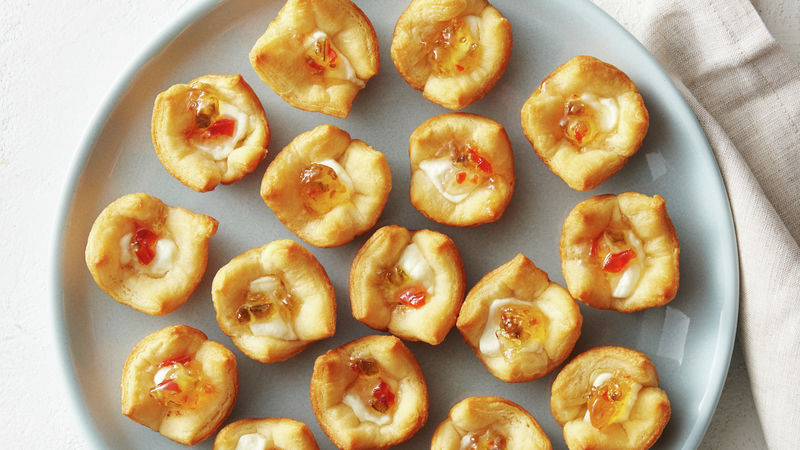cheese: (327, 359, 437, 438), (425, 138, 503, 217), (481, 285, 557, 362), (291, 142, 369, 217)
